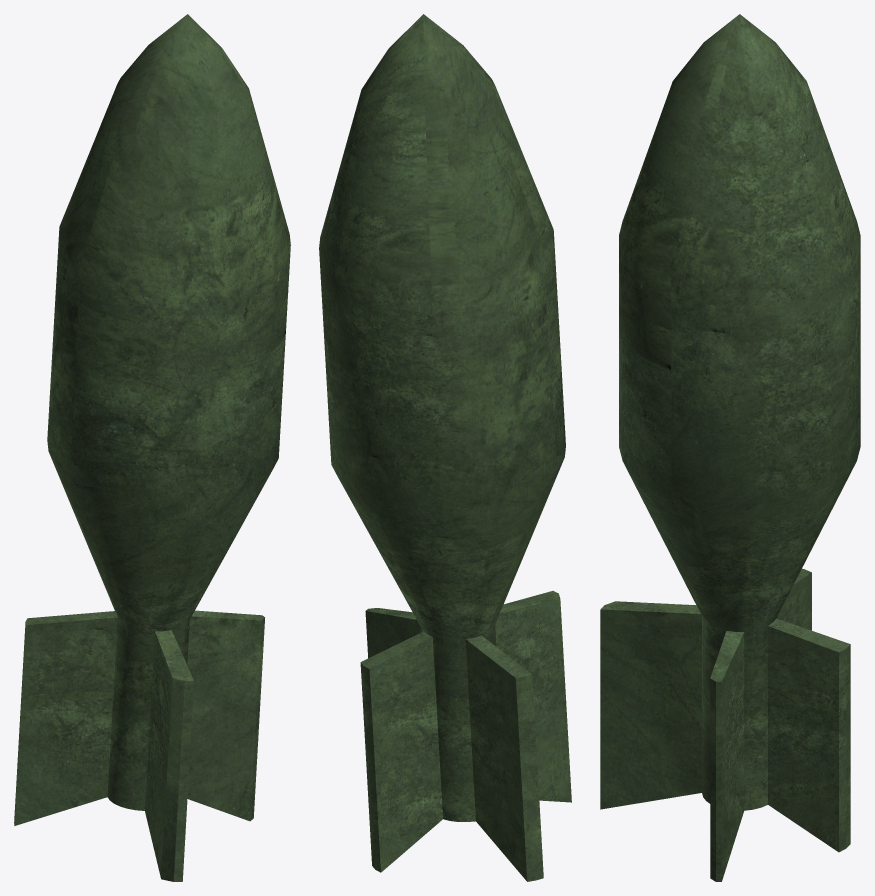
Rendered from mortar_ammo.fbx.
3 renders of one model, left to right at view 1: azimuth 30°, elevation 25°; view 2: azimuth 150°, elevation 25°; view 3: azimuth 270°, elevation 25°, orthographic. The views are drawn at different scales.
Parts seen in each view (by area): view 1: Cylinder; view 2: Cylinder; view 3: Cylinder.
Part boxes in pixels (x1,y1,x2,y2): Cylinder: (14, 14, 290, 881); Cylinder: (319, 14, 571, 881); Cylinder: (600, 14, 860, 881).
Size of the model in its own units: 9.69 by 32.16 by 9.02.
